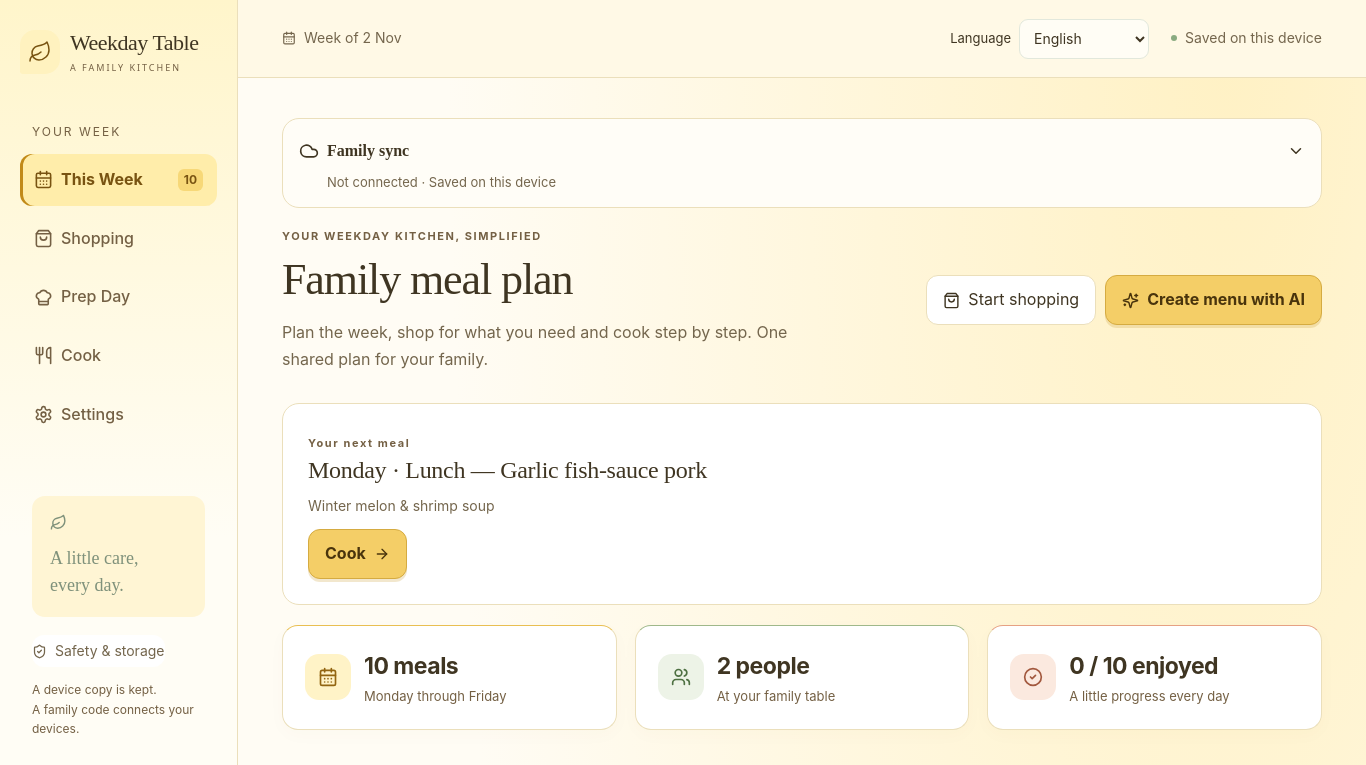
explains missing readiness and focuses the required confirmation
The width and height of the screenshot is (1366, 765).
expect the navigation bar is shown: met, box left=20, top=154, right=217, bottom=440
Click the button "Cook" below "A FAMILY KITCHEN" at (118, 356), box left=20, top=330, right=217, bottom=382
(page scrolled)
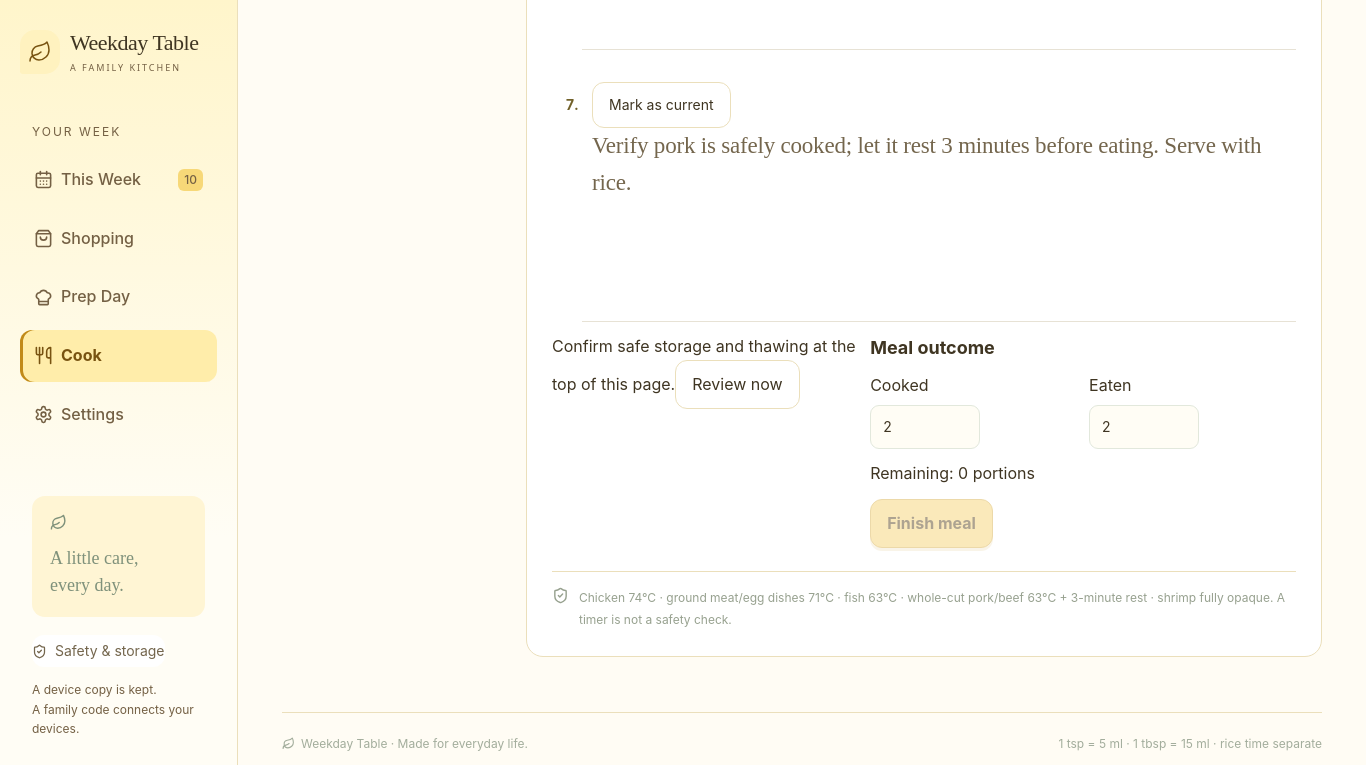
expect the button "Finish meal" is disabled: met, box left=870, top=499, right=993, bottom=548
Click the button "Review now" at (737, 385), box left=675, top=360, right=800, bottom=409
(page scrolled)
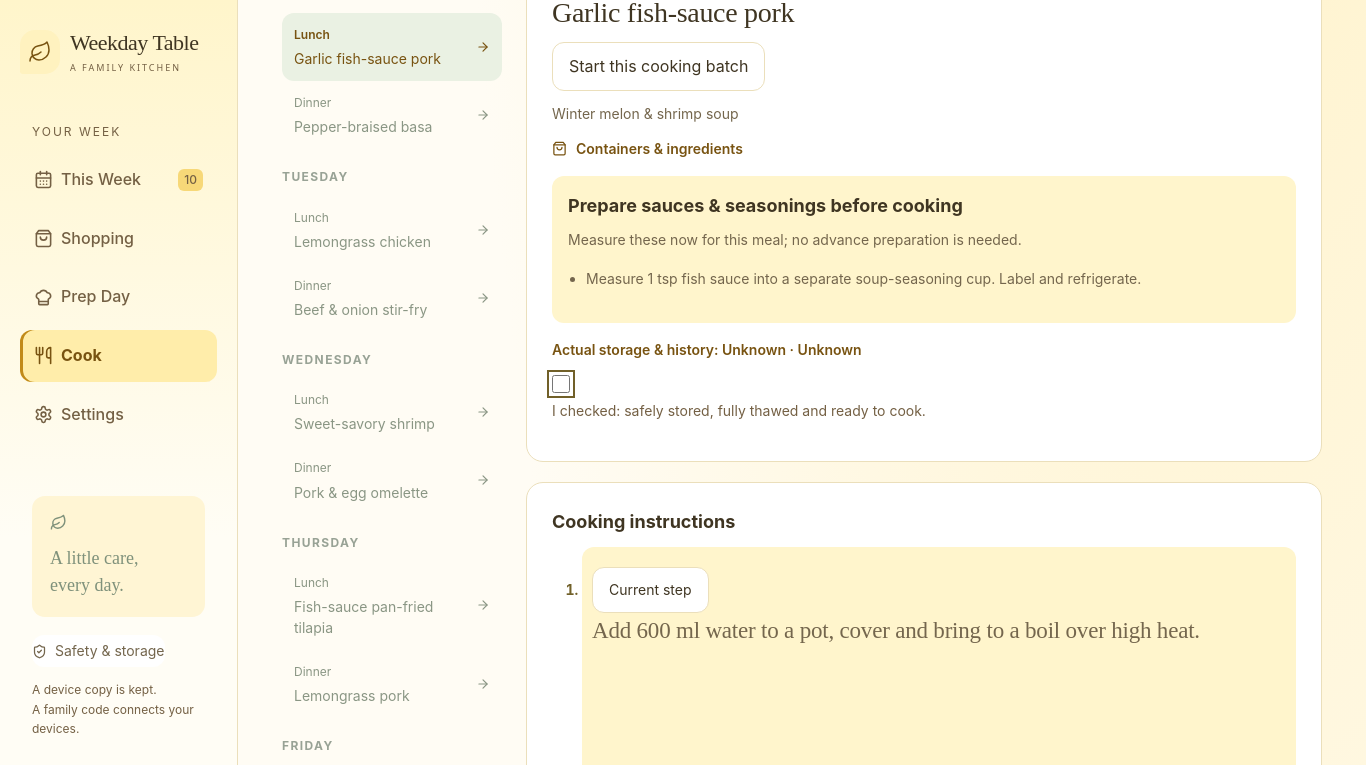
Click the checkbox labelled "I checked: safely stored, fully thawed and ready to cook." at (561, 384), box left=552, top=375, right=570, bottom=393
(page scrolled)
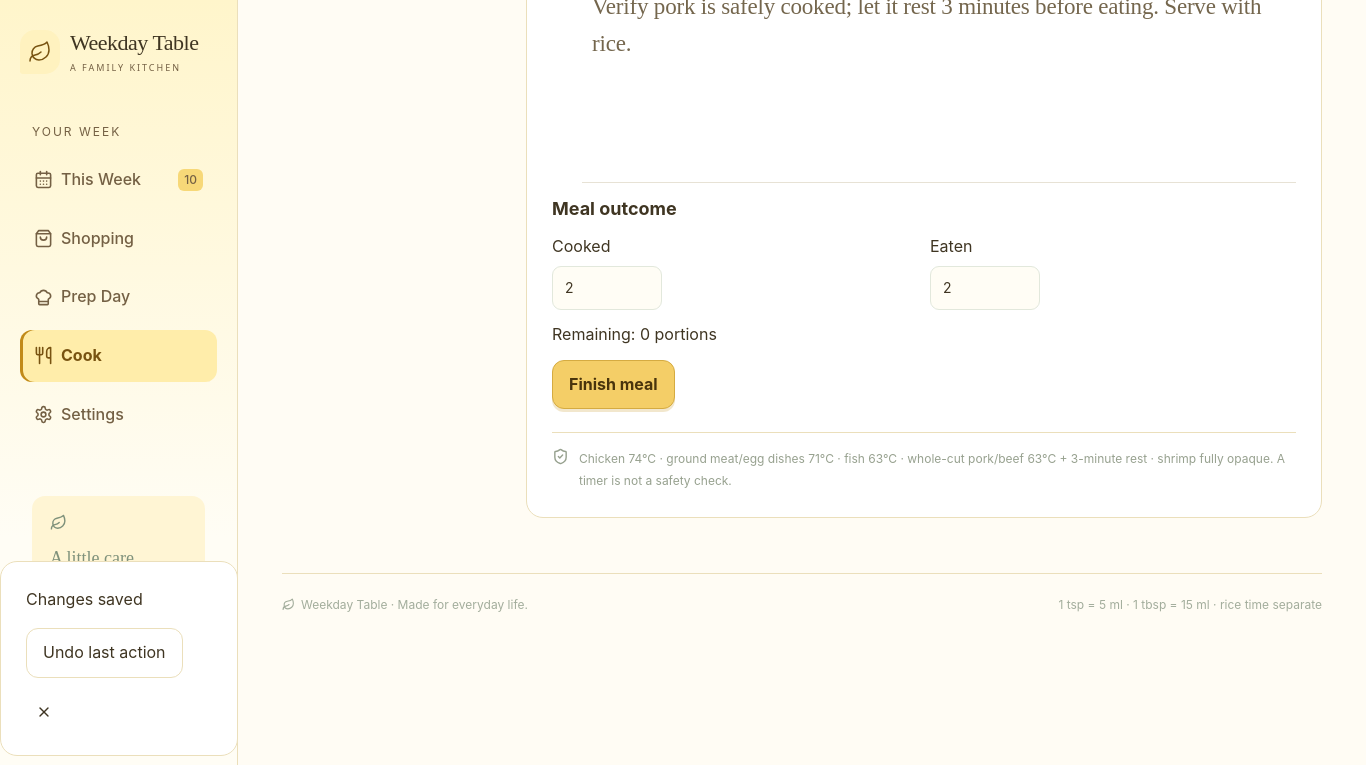
expect the button "Finish meal" is enabled: met, box left=552, top=360, right=675, bottom=409
